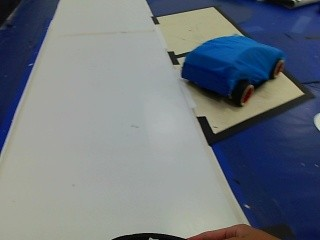car: (173, 35, 288, 110)
